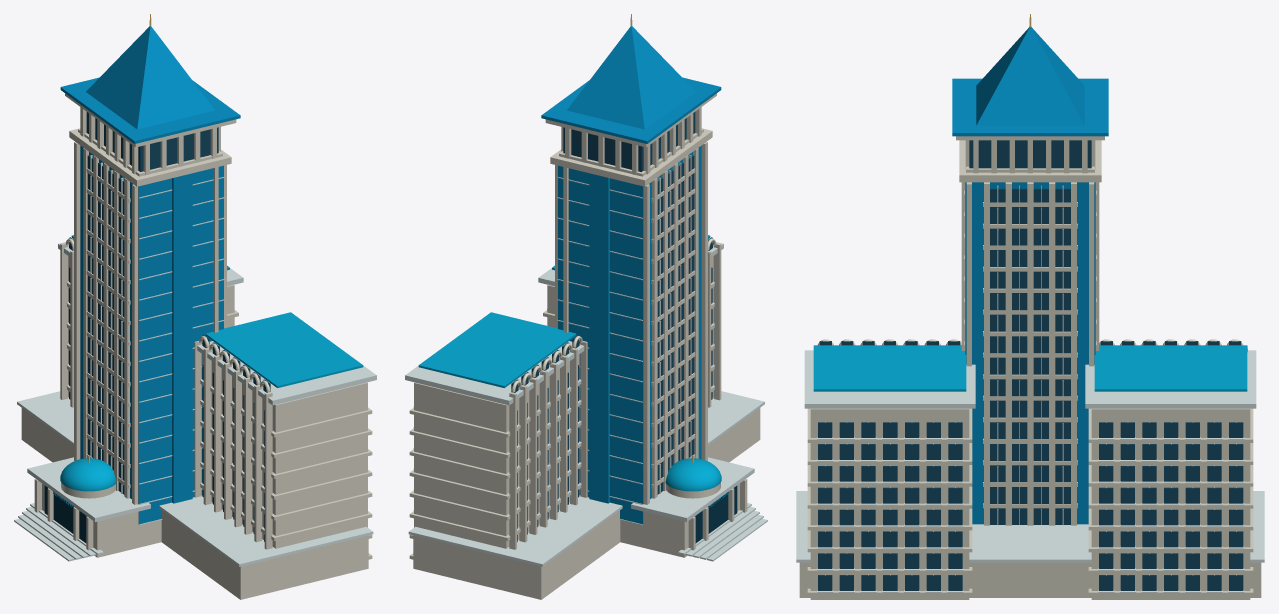
The model's file is menara-iqro.glb.
3 views of the same model, side by side, from view 1: azimuth 30°, elevation 25°; view 2: azimuth 150°, elevation 25°; view 3: azimuth 270°, elevation 25° (orthographic). The views are drawn at different scales.
Visible parts, largest first — view 1: Kompleks_Iqro_ivory, Kompleks_Iqro_blue, Kompleks_Iqro_trim, Kompleks_Iqro_glass, Kompleks_Iqro_roof, Kompleks_Iqro_darkglass; view 2: Kompleks_Iqro_ivory, Kompleks_Iqro_blue, Kompleks_Iqro_trim, Kompleks_Iqro_glass, Kompleks_Iqro_roof, Kompleks_Iqro_darkglass; view 3: Kompleks_Iqro_ivory, Kompleks_Iqro_glass, Kompleks_Iqro_trim, Kompleks_Iqro_blue, Kompleks_Iqro_roof.
Boxes of the visible parts, box(x1,y1,x2,y2) form: Kompleks_Iqro_ivory: box(21, 93, 372, 599); Kompleks_Iqro_blue: box(53, 26, 240, 524); Kompleks_Iqro_trim: box(14, 155, 376, 566); Kompleks_Iqro_glass: box(69, 112, 270, 541); Kompleks_Iqro_roof: box(60, 235, 363, 491); Kompleks_Iqro_darkglass: box(44, 485, 86, 543); Kompleks_Iqro_ivory: box(409, 93, 760, 599); Kompleks_Iqro_blue: box(541, 26, 728, 524); Kompleks_Iqro_trim: box(405, 155, 767, 566); Kompleks_Iqro_glass: box(511, 112, 712, 541); Kompleks_Iqro_roof: box(418, 235, 721, 491); Kompleks_Iqro_darkglass: box(695, 485, 737, 543); Kompleks_Iqro_ivory: box(799, 136, 1261, 599); Kompleks_Iqro_glass: box(818, 140, 1243, 590); Kompleks_Iqro_trim: box(796, 185, 1264, 592); Kompleks_Iqro_blue: box(952, 27, 1108, 524); Kompleks_Iqro_roof: box(813, 345, 1247, 391).
Bounding box in the file's own units: 40.9 × 85.8 × 69.
